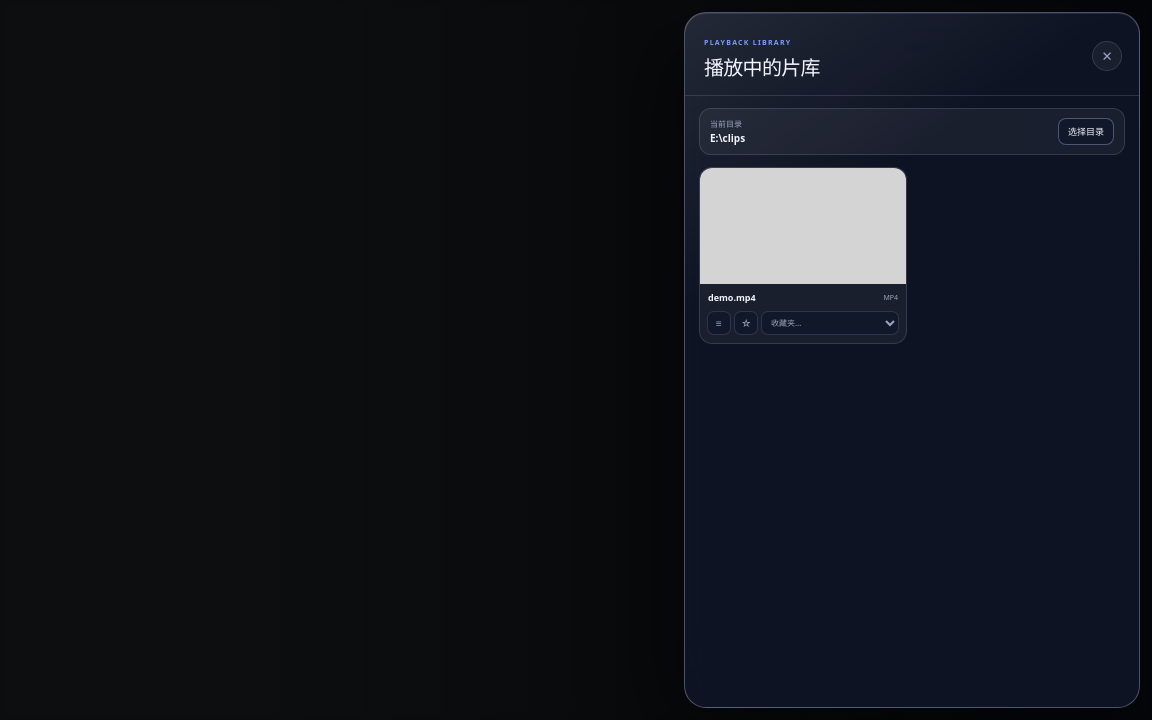
Test: 播放页片库抽屉 › 可以在抽屉里选择另一个目录
What coordinates should you click on to do the following:
click the button "选择目录"
I would click on:
 (1086, 132)
Its box is x1=1058 y1=118 x2=1114 y2=145.
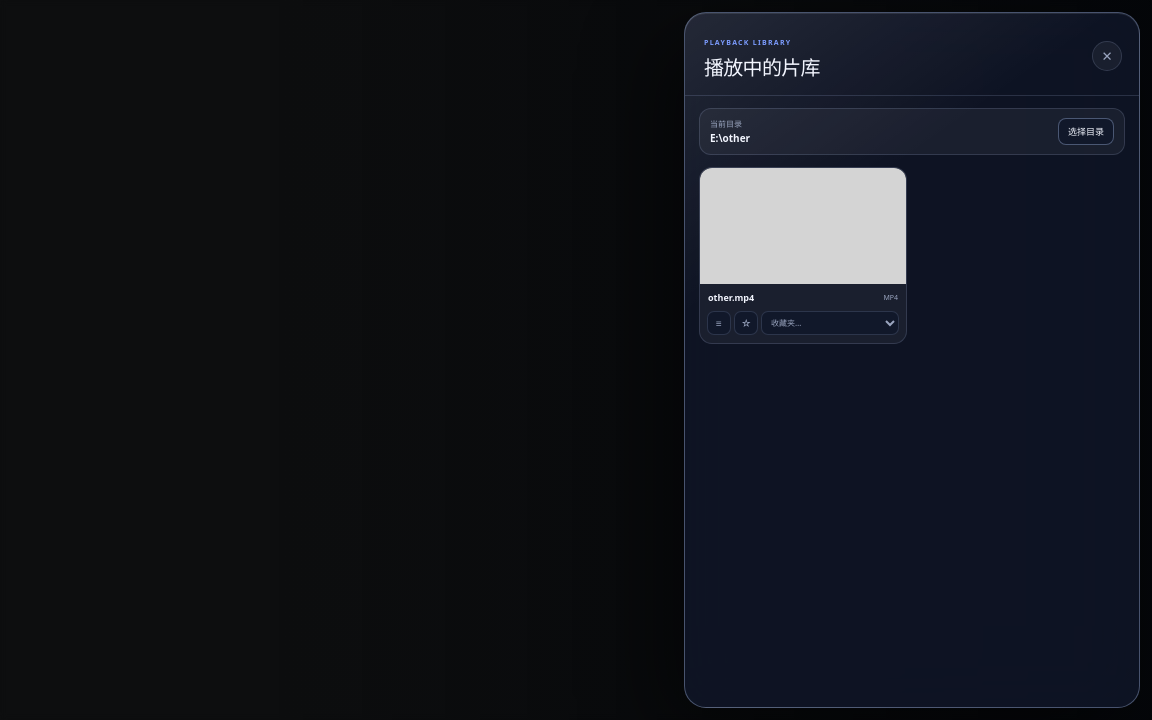
Now the text "other.mp4" is shown, box x1=708 y1=291 x2=754 y2=304
